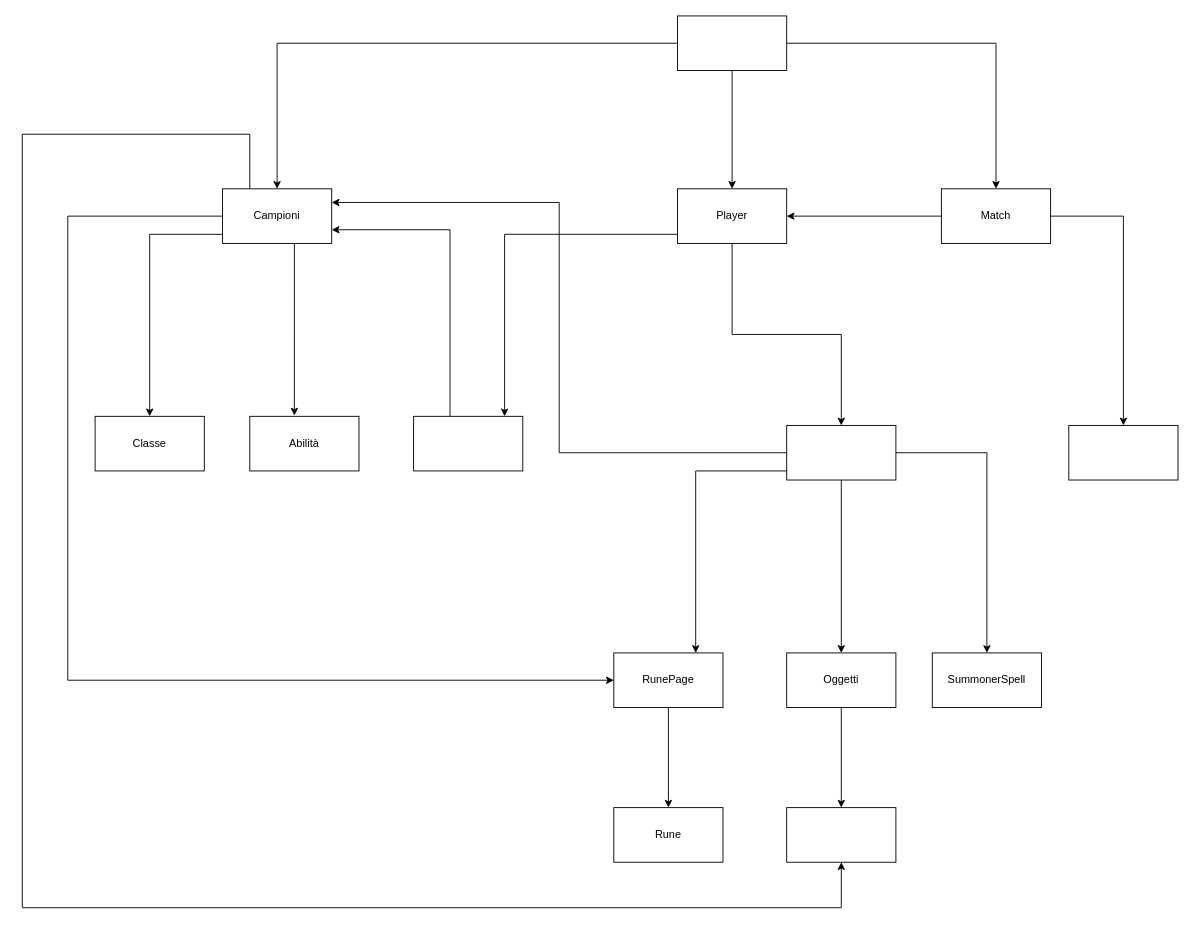
This 1194x931 diagram has some shape labels left out. Here are the shapes that lost their labels. From the top down, the centre of each, then its label:
At point 732,43: "Home".
At point 468,443: "Ruolo".
At point 841,452: "Loadout".
At point 1123,452: "Modalità".
At point 841,834: "Statistiche".
